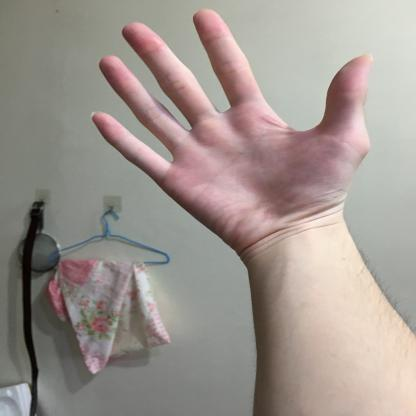bare_hand: (82, 0, 377, 266)
